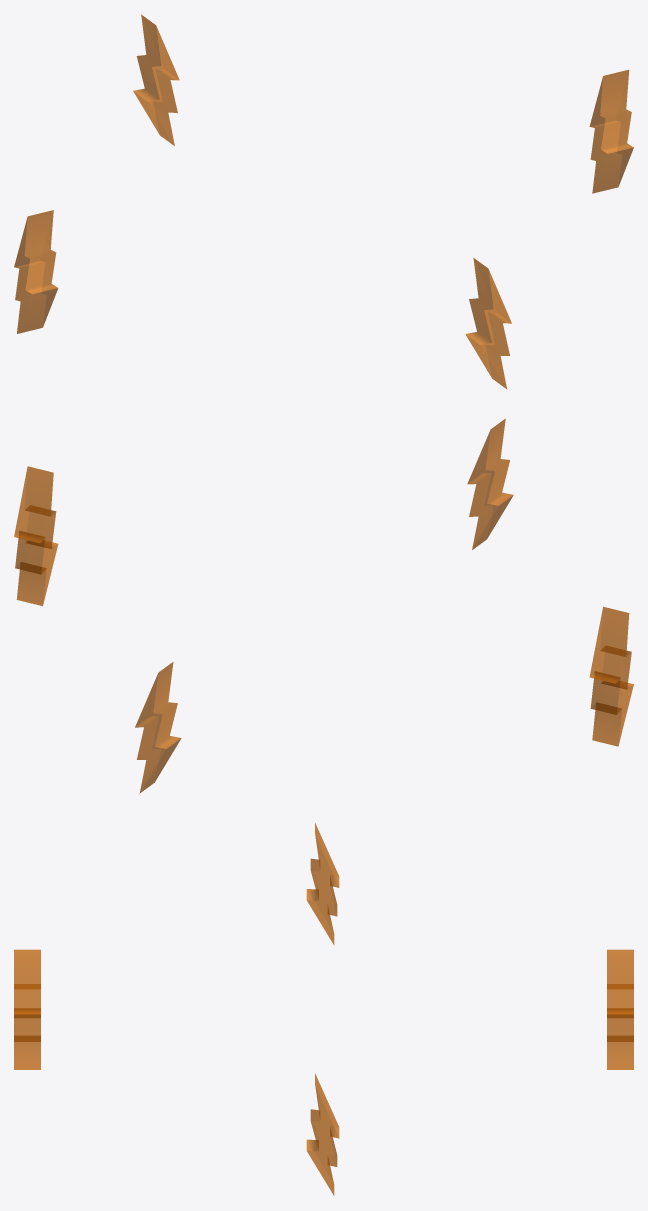
The model's file is DoubleDamage.fbx.
The picture shows the model from 3 angles, top to bottom: view 1: azimuth 30°, elevation 25°; view 2: azimuth 150°, elevation 25°; view 3: azimuth 270°, elevation 25°; orthographic projection. The views are drawn at different scales.
Parts seen in each view (by area): view 1: pCube4, pCube3, pCube2, pCube1; view 2: pCube3, pCube4, pCube1, pCube2; view 3: pCube2, pCube1, pCube4, pCube3.
Boxes of the visible parts, bbox=[...] form: pCube4: bbox=[589, 69, 633, 193]; pCube3: bbox=[14, 210, 58, 333]; pCube2: bbox=[133, 14, 179, 145]; pCube1: bbox=[465, 257, 511, 389]; pCube3: bbox=[589, 606, 633, 746]; pCube4: bbox=[14, 466, 58, 606]; pCube1: bbox=[467, 418, 513, 549]; pCube2: bbox=[135, 662, 181, 793]; pCube2: bbox=[607, 949, 633, 1069]; pCube1: bbox=[14, 949, 40, 1069]; pCube4: bbox=[306, 1073, 339, 1195]; pCube3: bbox=[306, 823, 339, 945].
Bounding box in the file's own units: 23 × 4.59 × 23.
